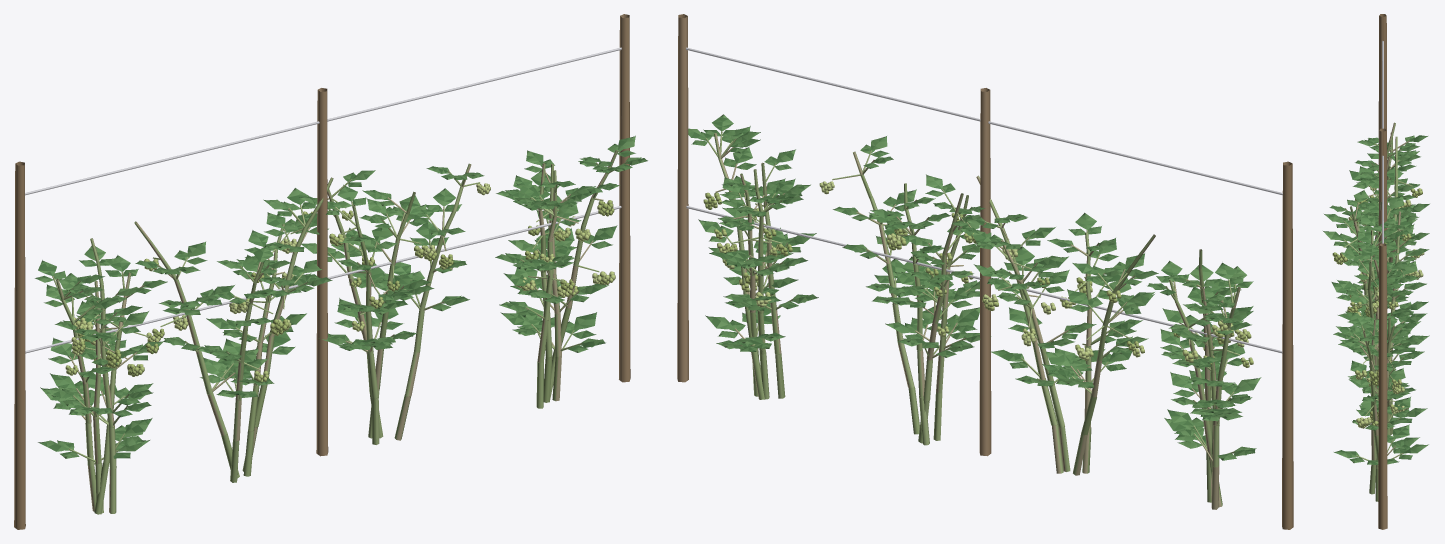
The model's file is framboise_fruits.glb.
3 renders of one model, left to right at view 1: azimuth 30°, elevation 25°; view 2: azimuth 150°, elevation 25°; view 3: azimuth 270°, elevation 25°, orthographic. The views are drawn at different scales.
Parts seen in each view (by area): view 1: Framboise_Feuilles, Framboise_Cannes, Framboise_Piquets, Framboise_Fruits, Framboise_Fil; view 2: Framboise_Feuilles, Framboise_Cannes, Framboise_Piquets, Framboise_Fruits, Framboise_Fil; view 3: Framboise_Feuilles, Framboise_Piquets, Framboise_Cannes, Framboise_Fruits, Framboise_Fil.
Boxes of the visible parts, x1=… form: Framboise_Feuilles: x1=35, y1=135, x2=647, y2=458; Framboise_Cannes: x1=52, y1=150, x2=627, y2=514; Framboise_Piquets: x1=14, y1=14, x2=630, y2=529; Framboise_Fruits: x1=65, y1=183, x2=615, y2=383; Framboise_Fil: x1=25, y1=47, x2=621, y2=353; Framboise_Feuilles: x1=688, y1=114, x2=1261, y2=460; Framboise_Cannes: x1=705, y1=131, x2=1240, y2=509; Framboise_Piquets: x1=677, y1=14, x2=1293, y2=529; Framboise_Fruits: x1=703, y1=181, x2=1253, y2=367; Framboise_Fil: x1=686, y1=47, x2=1282, y2=353; Framboise_Feuilles: x1=1323, y1=135, x2=1429, y2=464; Framboise_Piquets: x1=1378, y1=14, x2=1387, y2=529; Framboise_Cannes: x1=1343, y1=122, x2=1412, y2=501; Framboise_Fruits: x1=1332, y1=178, x2=1424, y2=428; Framboise_Fil: x1=1382, y1=41, x2=1383, y2=243.
Size of the model in its own units: 2.03 by 1.15 by 0.3993.
